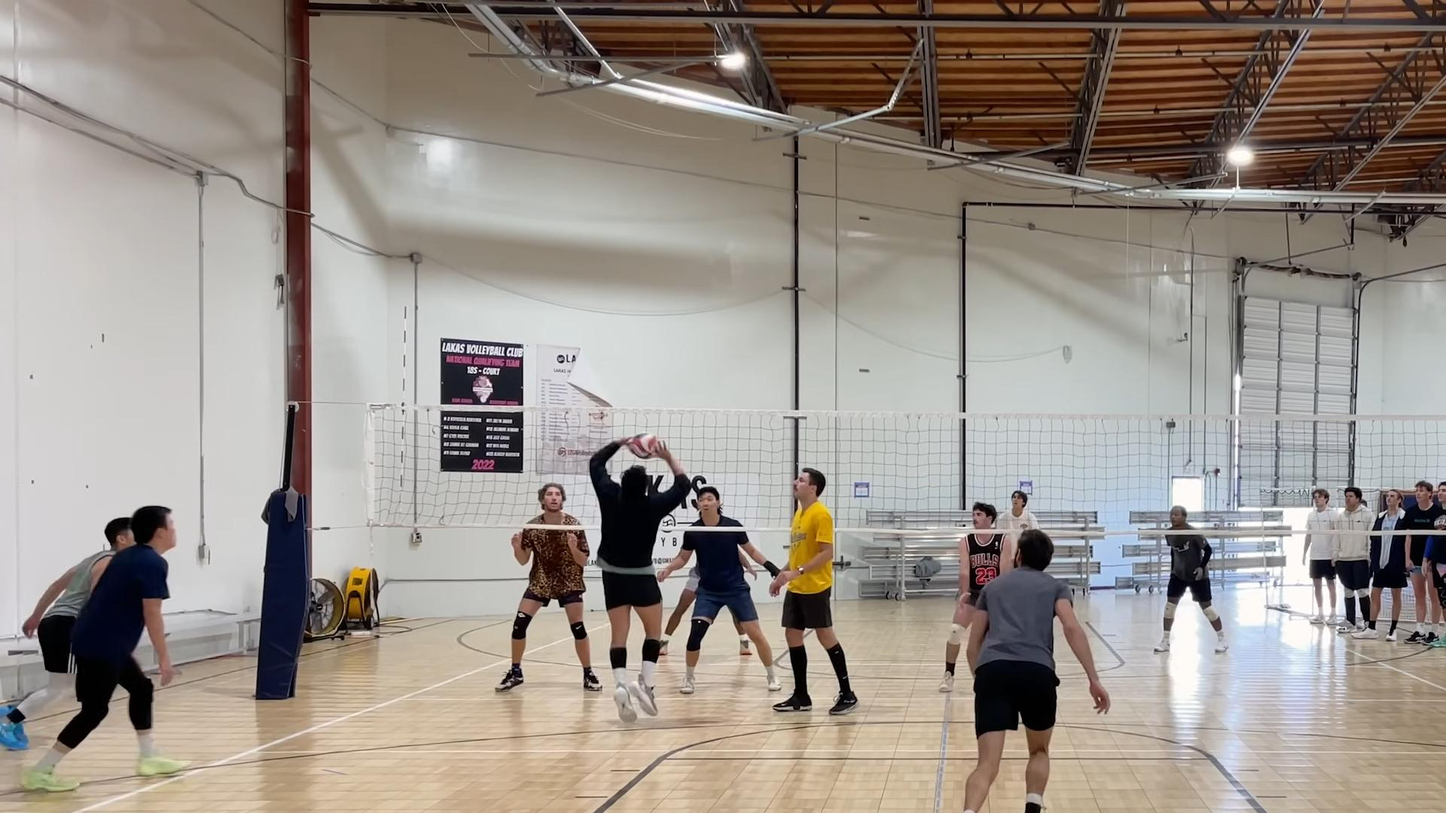Player: (22, 506, 186, 791), (964, 529, 1109, 812), (0, 517, 132, 749), (770, 468, 857, 714), (657, 530, 780, 693), (496, 528, 600, 691), (939, 502, 1011, 692), (1154, 505, 1228, 653), (660, 566, 697, 653), (996, 490, 1039, 540)
Set: (586, 425, 705, 710)
ball: (624, 426, 659, 459)
